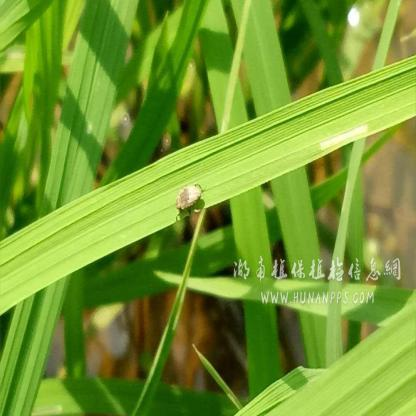rice-bug: (174, 181, 204, 220)
